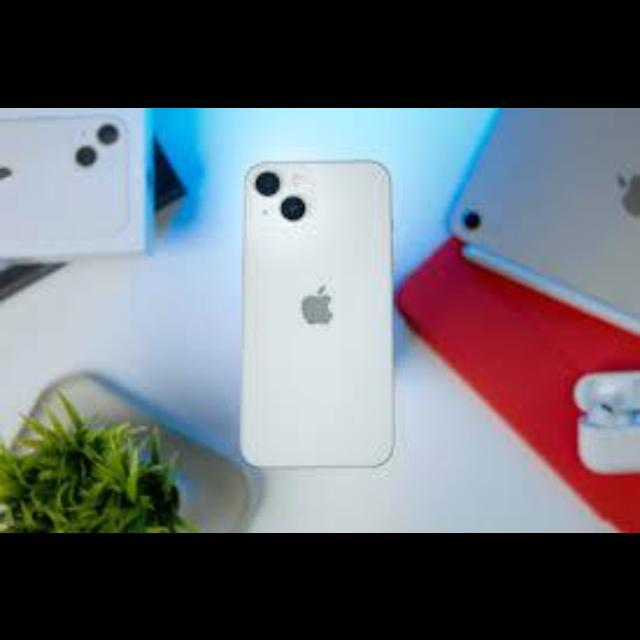Phone: (245, 162, 393, 466), (1, 113, 129, 241)
